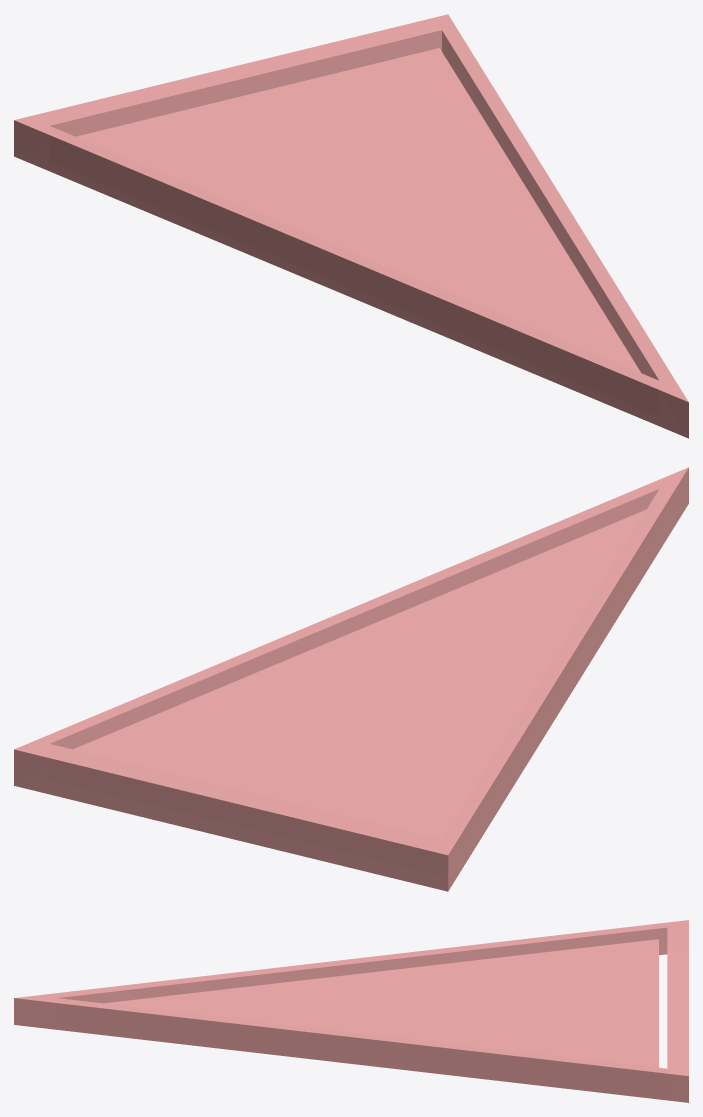
Rendered from tile-large-orange.glb.
3 views of the same model, one above another, from view 1: azimuth 30°, elevation 25°; view 2: azimuth 150°, elevation 25°; view 3: azimuth 270°, elevation 25° (orthographic). The views are drawn at different scales.
Visible parts, largest first — view 1: tile; view 2: tile; view 3: tile.
Boxes of the visible parts, bbox=[...] form: tile: bbox=[14, 14, 688, 438]; tile: bbox=[14, 467, 688, 891]; tile: bbox=[14, 920, 688, 1102].
Bounding box in the file's own units: 1 × 0.08 × 1.83.
